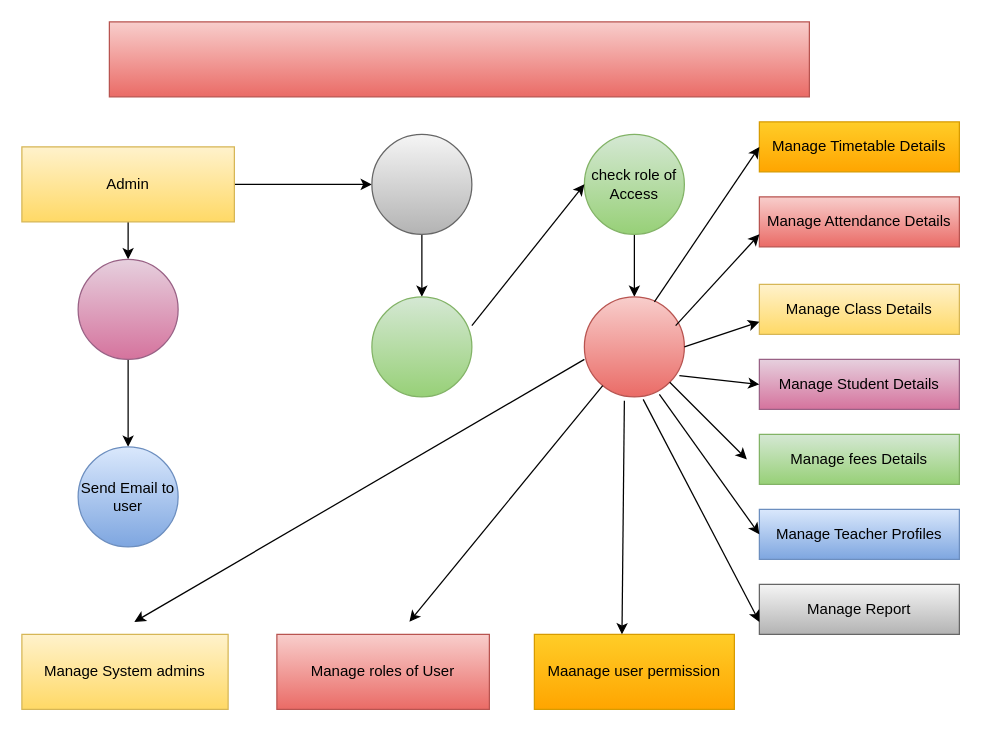
Some shapes in this 981 by 731 pixel diagram are drawn without their labels. The centre of each missing label's shape, as x and y in pixels:
"Check Credentials" belongs at pixel 421 346.
"Forgot password" belongs at pixel 127 308.
"Login to System" belongs at pixel 421 183.
"Manage Modules" belongs at pixel 633 346.
"Student Information System" belongs at pixel 458 59.
